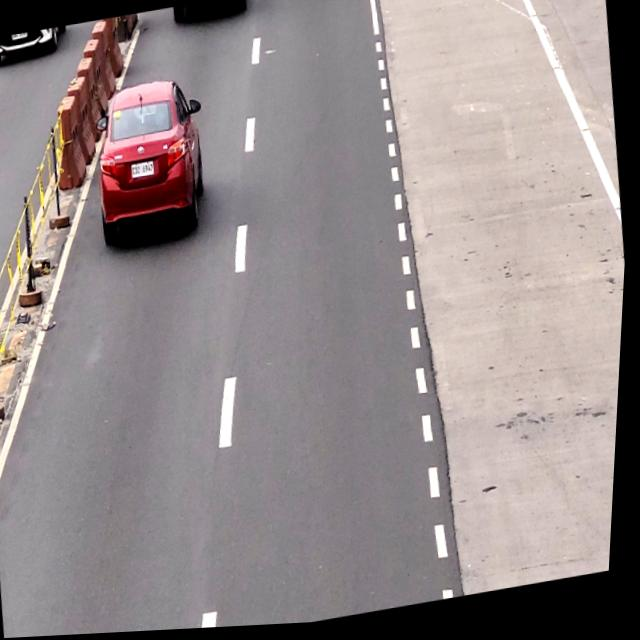Car: (86, 71, 220, 253)
License-Plate: (130, 160, 158, 180)
